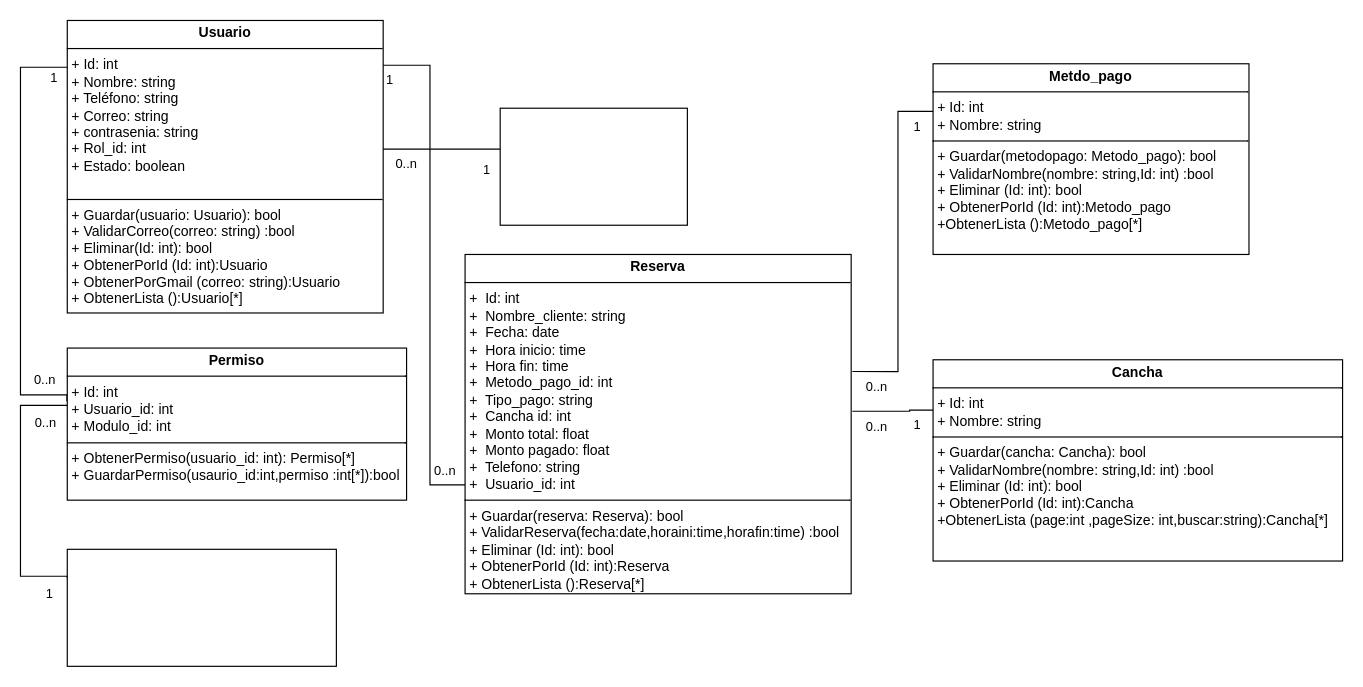
Image size: 1363x687. Some labels were removed from this diagram. Each missing label, with the centre of its shape:
"Modulo + Id: int + Nombre: string + ObtenerLista ():Modulo[*]" goes at [201,607].
"Rol + Id: int + Nombre: string +ObtenerLista ():Rol[*]" goes at [593,166].
